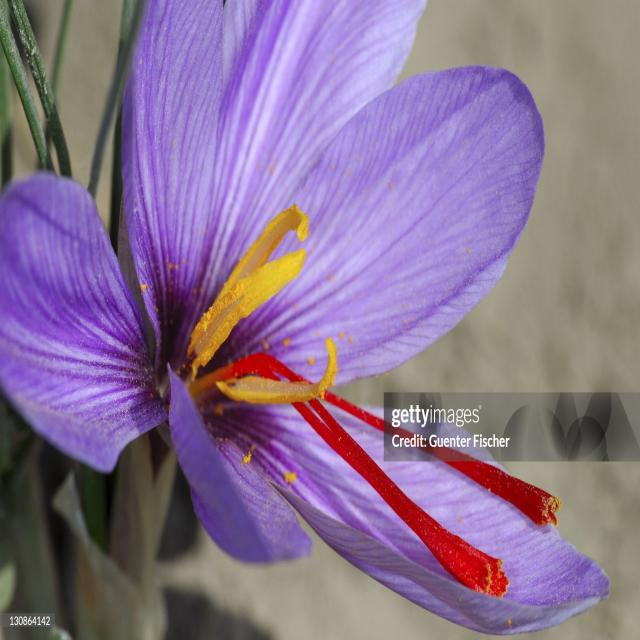saffron open: (0, 2, 609, 633)
